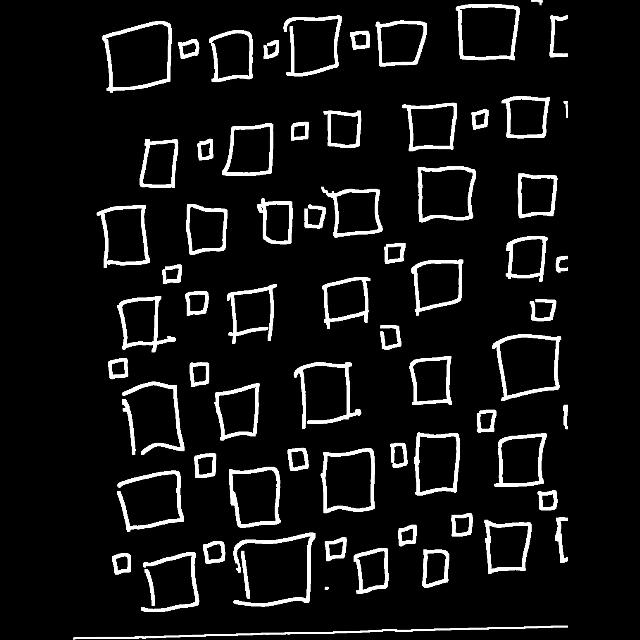square: (232, 535, 322, 609), (106, 462, 190, 536), (481, 332, 564, 402), (314, 446, 394, 518), (484, 414, 554, 496), (81, 196, 159, 268), (104, 18, 174, 98), (296, 354, 360, 436), (136, 542, 204, 614), (452, 1, 532, 61), (472, 516, 542, 584), (387, 352, 457, 418), (222, 278, 286, 346), (210, 372, 270, 443), (371, 13, 435, 79), (412, 250, 472, 320), (402, 96, 463, 162), (285, 15, 345, 79), (410, 167, 480, 221), (206, 26, 258, 96), (501, 166, 565, 222), (228, 462, 282, 528), (310, 272, 374, 324), (226, 120, 282, 178), (329, 182, 387, 238), (492, 90, 556, 140), (114, 299, 174, 351), (134, 132, 182, 196), (494, 234, 552, 282), (184, 195, 230, 252), (353, 541, 389, 609), (418, 543, 457, 601), (256, 189, 292, 251), (323, 110, 373, 154), (376, 434, 412, 474), (387, 515, 423, 555), (374, 238, 411, 272), (469, 400, 505, 434), (288, 436, 318, 476), (446, 502, 476, 542), (518, 298, 558, 328), (188, 452, 218, 490), (282, 108, 312, 146), (170, 32, 204, 64), (258, 30, 288, 66), (197, 536, 227, 572), (176, 292, 212, 320), (183, 358, 214, 390), (466, 109, 496, 141), (148, 264, 182, 292), (100, 356, 130, 386), (340, 24, 370, 52), (302, 200, 324, 238), (381, 323, 407, 355), (110, 552, 138, 578), (322, 532, 346, 562), (193, 129, 214, 161), (537, 489, 561, 511)
